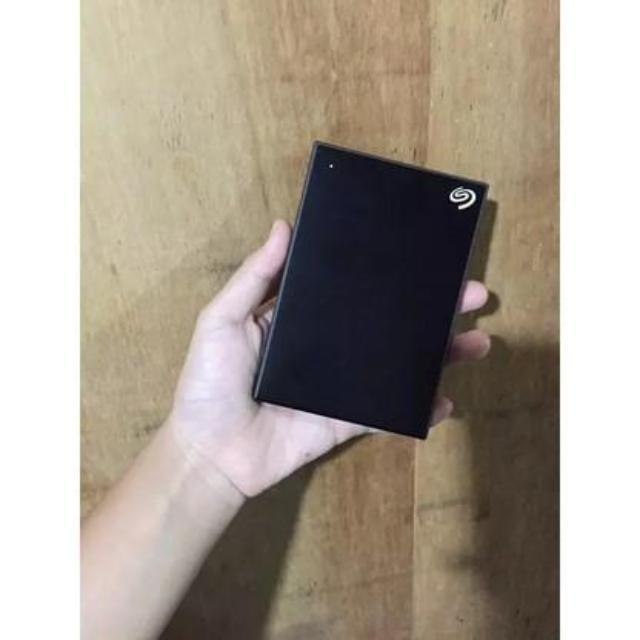DISK: (244, 136, 496, 450)
